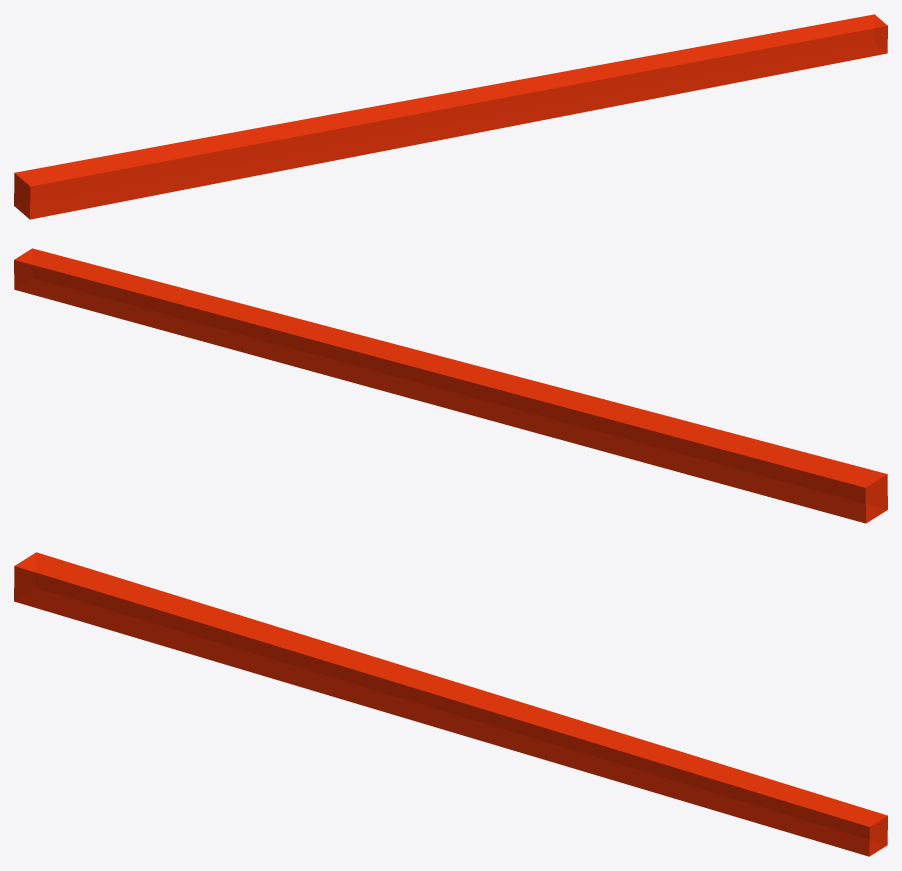
The model's file is Event_421115418_EErechit_24.fbx.
3 views of the same model, one above another, from view 1: azimuth 30°, elevation 25°; view 2: azimuth 150°, elevation 25°; view 3: azimuth 330°, elevation 25° (orthographic). The views are drawn at different scales.
Visible parts, largest first — view 1: Model; view 2: Model; view 3: Model.
Part boxes in pixels (x1,y1,x2,y2): Model: (14, 14, 887, 219); Model: (14, 248, 887, 523); Model: (14, 552, 887, 856).
Size of the model in its own units: 2.28 by 0.1157 by 0.2442.
